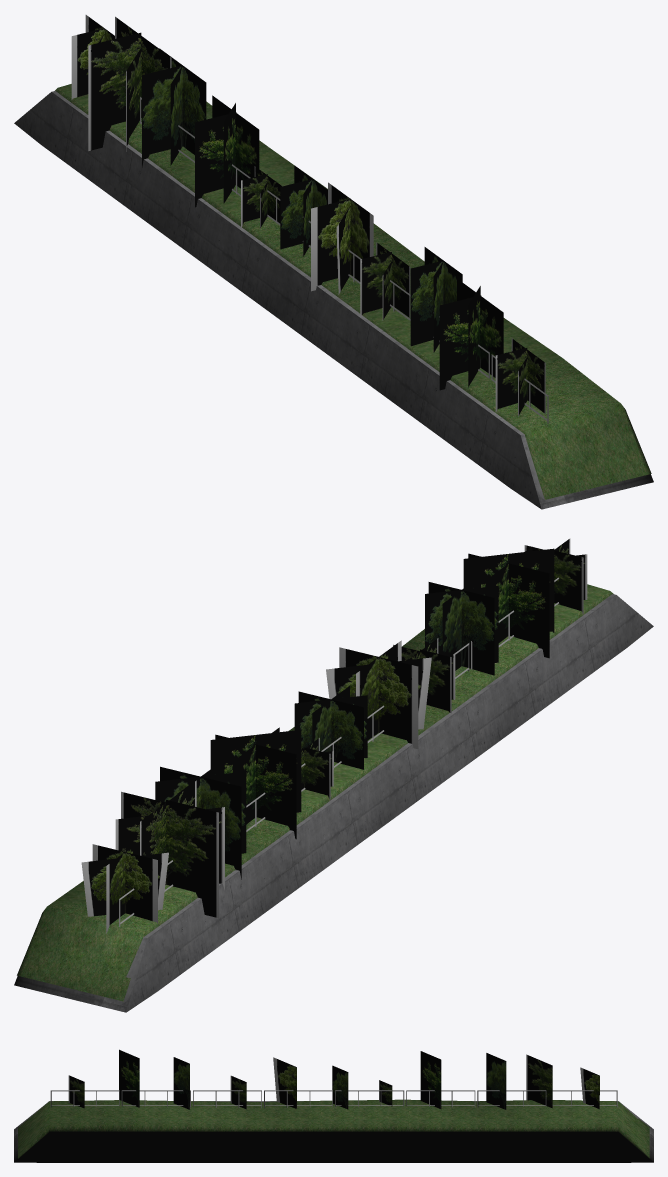
File: KH_LEFT_AMB_100_02.glb
The picture shows the model from 3 angles, top to bottom: view 1: azimuth 30°, elevation 25°; view 2: azimuth 150°, elevation 25°; view 3: azimuth 270°, elevation 25°; orthographic projection. The views are drawn at different scales.
Parts seen in each view (by area): view 1: Left_Rord1, bone22, bone16, bone17, bone20, bone18, bone19, bone23, bone21; view 2: Left_Rord1, bone16, bone22, bone20, bone18, bone19, bone17, bone23, bone21; view 3: Left_Rord1, bone22, bone16, bone18, bone17, bone20, bone19, bone21, bone23.
Boxes of the visible parts, x1=… form: Left_Rord1: x1=14, y1=84, x2=653, y2=509; bone22: x1=410, y1=247, x2=503, y2=390; bone16: x1=71, y1=15, x2=171, y2=151; bone17: x1=140, y1=48, x2=206, y2=167; bone20: x1=311, y1=182, x2=373, y2=294; bone18: x1=195, y1=95, x2=259, y2=207; bone19: x1=241, y1=165, x2=327, y2=256; bone23: x1=491, y1=338, x2=548, y2=423; bone21: x1=360, y1=242, x2=410, y2=320; Left_Rord1: x1=14, y1=584, x2=653, y2=1012; bone16: x1=81, y1=780, x2=224, y2=933; bone22: x1=425, y1=546, x2=554, y2=675; bone20: x1=326, y1=640, x2=431, y2=749; bone18: x1=210, y1=727, x2=301, y2=839; bone19: x1=294, y1=686, x2=367, y2=800; bone17: x1=155, y1=760, x2=246, y2=879; bone23: x1=524, y1=538, x2=587, y2=614; bone21: x1=393, y1=638, x2=469, y2=713; Left_Rord1: x1=14, y1=1099, x2=653, y2=1162; bone22: x1=119, y1=1049, x2=190, y2=1109; bone16: x1=526, y1=1054, x2=617, y2=1108; bone18: x1=406, y1=1051, x2=475, y2=1108; bone17: x1=477, y1=1053, x2=546, y2=1109; bone20: x1=264, y1=1057, x2=332, y2=1108; bone19: x1=332, y1=1065, x2=404, y2=1109; bone21: x1=193, y1=1075, x2=261, y2=1109; bone23: x1=50, y1=1075, x2=119, y2=1108.
Size of the model in its own units: 15.08 by 16.61 by 112.
21 materials, 21 textured.
